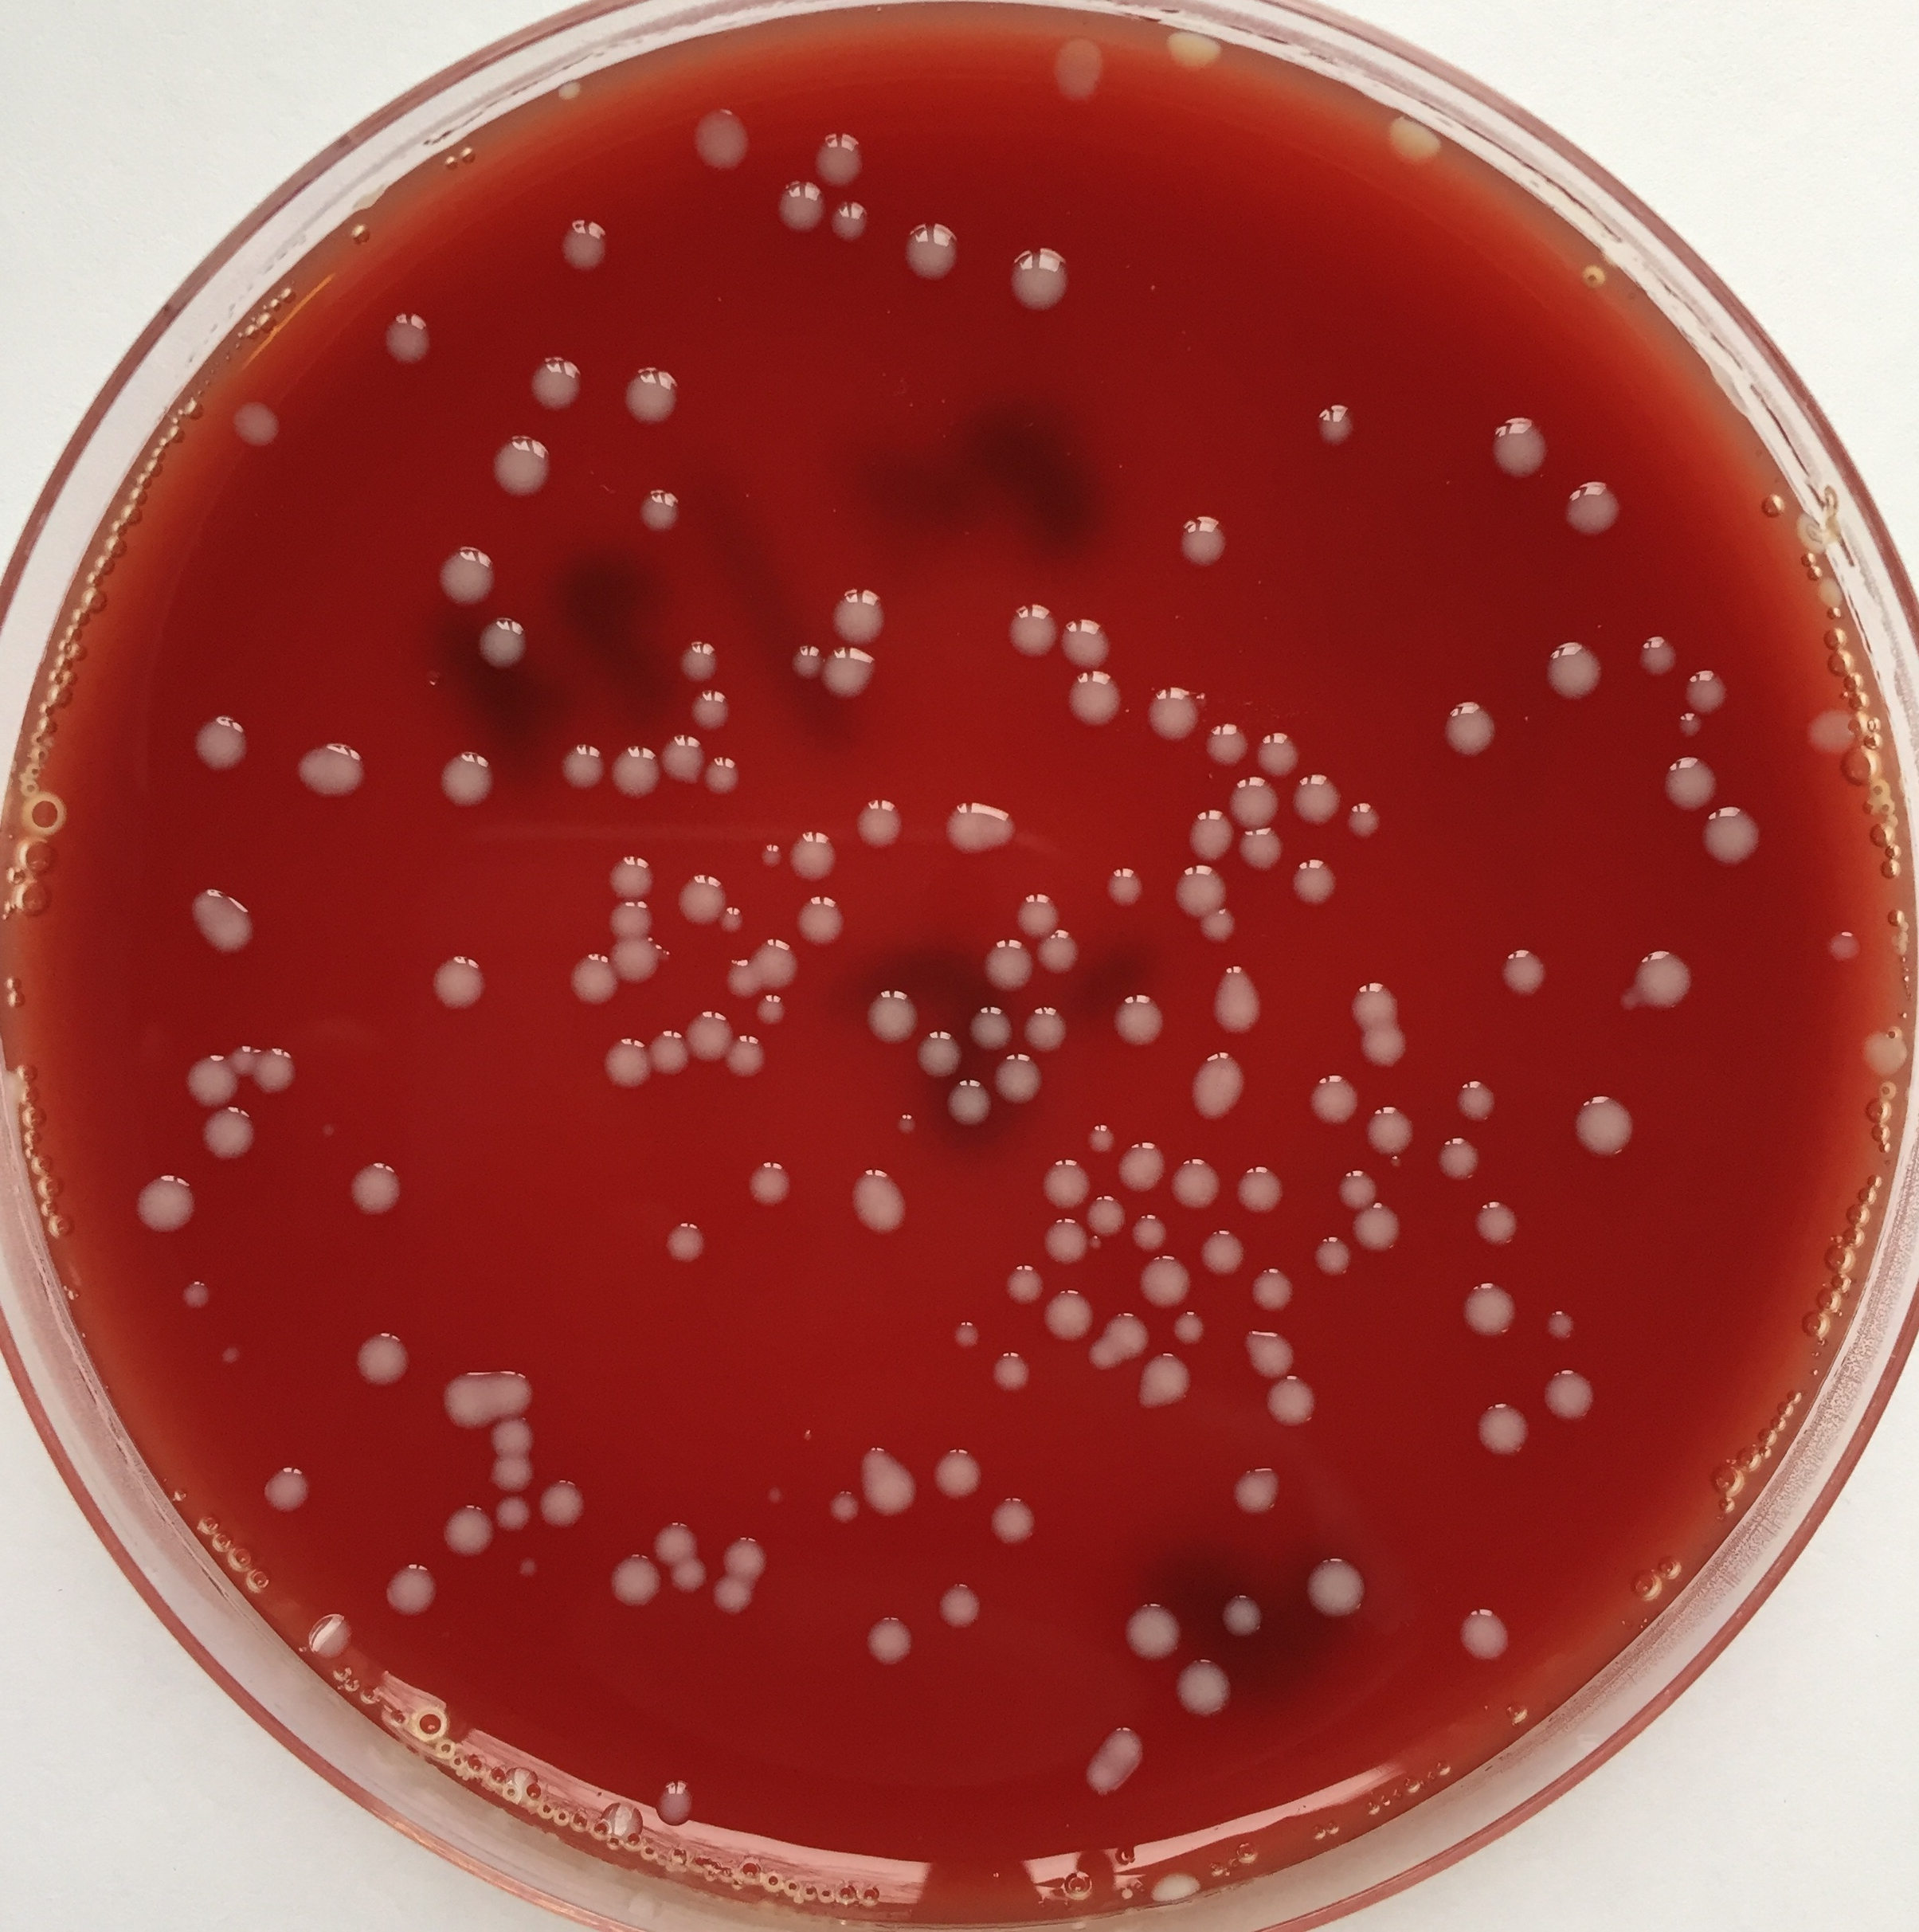sp22: (1606, 944, 1706, 1030), (1474, 944, 1564, 1027), (1184, 1044, 1265, 1132), (1557, 1085, 1641, 1166), (1539, 629, 1611, 719), (678, 95, 759, 174), (1151, 21, 1235, 95), (1439, 672, 1503, 770), (1692, 802, 1771, 877), (181, 886, 264, 958), (844, 1157, 912, 1241), (439, 1362, 536, 1420), (1527, 1354, 1596, 1434), (944, 793, 1023, 861), (285, 735, 366, 802), (1483, 413, 1555, 487), (360, 295, 436, 366), (1302, 1545, 1371, 1623), (866, 1429, 921, 1526), (1466, 1387, 1529, 1470), (183, 708, 248, 788), (339, 1148, 409, 1220), (1446, 1596, 1517, 1668), (1200, 960, 1271, 1032), (220, 385, 279, 468), (1000, 237, 1075, 302), (351, 1318, 411, 1399), (1114, 1596, 1183, 1665), (1459, 1276, 1527, 1345), (1172, 1652, 1234, 1728), (1655, 744, 1724, 810), (1372, 104, 1443, 169), (1104, 984, 1169, 1055), (128, 1171, 197, 1236), (1552, 476, 1631, 533), (425, 946, 489, 1016), (1170, 513, 1246, 571), (863, 1607, 921, 1682), (1142, 668, 1200, 744), (170, 1051, 248, 1108), (620, 357, 684, 425), (1228, 1454, 1292, 1522), (427, 745, 494, 809), (831, 568, 886, 643), (199, 1104, 264, 1167), (810, 118, 870, 186), (900, 213, 959, 281), (1063, 670, 1126, 733), (851, 793, 916, 854), (250, 1461, 316, 1521), (861, 972, 919, 1041), (1290, 759, 1344, 832), (998, 591, 1053, 661), (1054, 603, 1114, 666), (1262, 1375, 1322, 1438), (383, 1556, 438, 1624), (930, 1438, 984, 1507), (1098, 853, 1148, 928), (1306, 390, 1358, 461), (490, 438, 550, 499), (1235, 1320, 1299, 1378), (525, 350, 582, 415), (1056, 33, 1107, 104), (1109, 1132, 1169, 1192), (1803, 696, 1859, 759), (1290, 851, 1346, 914), (606, 738, 661, 803), (1346, 1021, 1415, 1072), (1165, 856, 1225, 914), (432, 545, 489, 606), (1169, 1146, 1221, 1211), (944, 1064, 996, 1129), (993, 1480, 1040, 1552), (775, 171, 824, 239), (1232, 1153, 1290, 1211), (791, 888, 847, 948), (1854, 1021, 1914, 1078), (1228, 826, 1290, 881), (937, 1575, 984, 1645), (1459, 1195, 1524, 1246), (474, 612, 531, 670), (1019, 997, 1074, 1057), (995, 1055, 1047, 1116), (552, 216, 615, 267), (1040, 1282, 1095, 1340), (1353, 1201, 1408, 1259), (912, 1021, 967, 1079), (787, 826, 840, 886), (539, 1473, 589, 1536), (819, 649, 882, 698), (1432, 1136, 1487, 1192), (963, 999, 1019, 1053), (441, 1503, 494, 1561), (984, 1345, 1037, 1403), (1091, 1712, 1144, 1770), (610, 935, 670, 986), (629, 485, 691, 534), (608, 1549, 657, 1610), (657, 1208, 703, 1273), (1142, 1362, 1197, 1417), (975, 933, 1030, 988), (1148, 1853, 1200, 1909), (1682, 659, 1738, 712), (682, 680, 740, 731), (597, 1030, 648, 1088), (654, 1770, 699, 1834), (1197, 1222, 1248, 1278), (1207, 708, 1251, 774), (1218, 1589, 1271, 1642), (1039, 1153, 1090, 1208), (673, 872, 722, 928), (749, 1144, 791, 1209), (671, 629, 724, 680), (684, 1006, 736, 1057), (1246, 1260, 1295, 1315), (1181, 805, 1230, 860), (1309, 1069, 1355, 1127), (1341, 979, 1409, 1018), (756, 928, 796, 993), (647, 1016, 687, 1081), (1141, 1253, 1191, 1304), (1627, 622, 1673, 679), (1357, 1106, 1416, 1148), (308, 1603, 357, 1654), (721, 1524, 768, 1577), (603, 849, 655, 897), (659, 731, 705, 786), (998, 1257, 1049, 1304), (1452, 1072, 1499, 1123), (601, 897, 661, 937), (1258, 723, 1299, 782), (257, 1041, 301, 1095), (555, 740, 599, 795), (569, 948, 612, 1004), (1010, 888, 1058, 937), (485, 1412, 541, 1452), (1042, 1217, 1088, 1266), (828, 197, 872, 248), (1826, 918, 1868, 970), (648, 1512, 694, 1559), (1306, 1234, 1353, 1280), (1105, 1310, 1149, 1359), (670, 1552, 712, 1603), (726, 1034, 768, 1085), (1123, 1209, 1174, 1252), (750, 991, 800, 1034), (712, 1582, 761, 1624), (1191, 902, 1241, 944), (1230, 775, 1281, 816), (599, 1793, 643, 1839), (170, 1276, 221, 1315), (489, 1494, 532, 1538), (1330, 1166, 1374, 1209), (703, 752, 743, 800), (483, 1456, 534, 1493), (1081, 1763, 1125, 1805), (1039, 933, 1081, 977), (1662, 700, 1708, 740), (1344, 795, 1383, 842), (745, 833, 786, 877), (1169, 1306, 1209, 1350), (822, 1487, 861, 1531), (1086, 1192, 1128, 1229), (1539, 1308, 1580, 1343), (722, 949, 754, 993), (508, 1551, 545, 1587), (949, 1308, 984, 1347), (889, 1097, 916, 1146), (1086, 1116, 1118, 1157), (554, 72, 590, 105), (791, 636, 828, 670), (230, 1041, 264, 1072), (213, 1341, 243, 1375), (1086, 1336, 1116, 1368), (1083, 1232, 1109, 1260), (763, 1485, 789, 1512), (726, 902, 747, 933), (1387, 1151, 1408, 1178)
